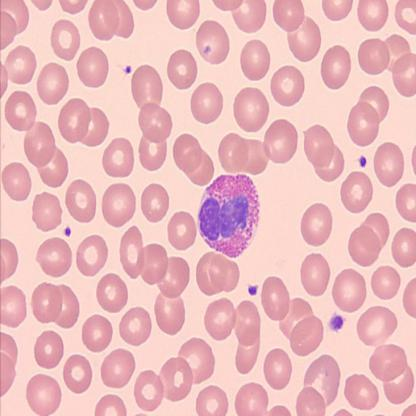Eosinophil: (197, 172, 265, 256)
